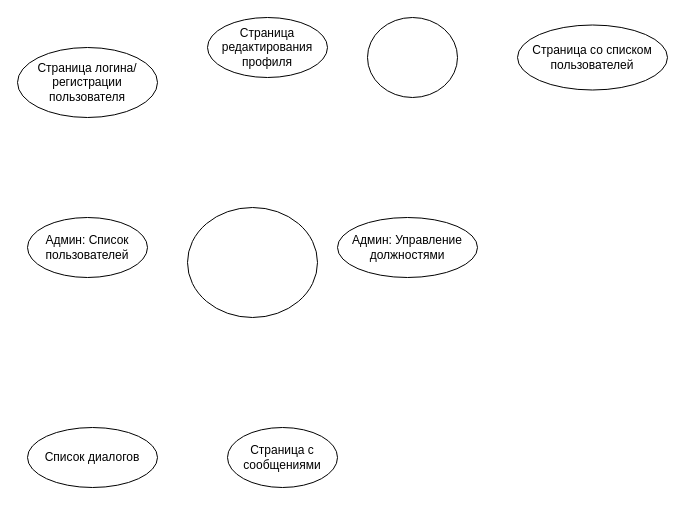
Image size: 685x505. Some labels were removed from this diagram. Here are the shapes that lost their labels. From the top down, the centre of each, then its label:
At [412,57]: "Страница просмотра профиля".
At [252,262]: "Админ: Страница редактирования профиля пользователя".
